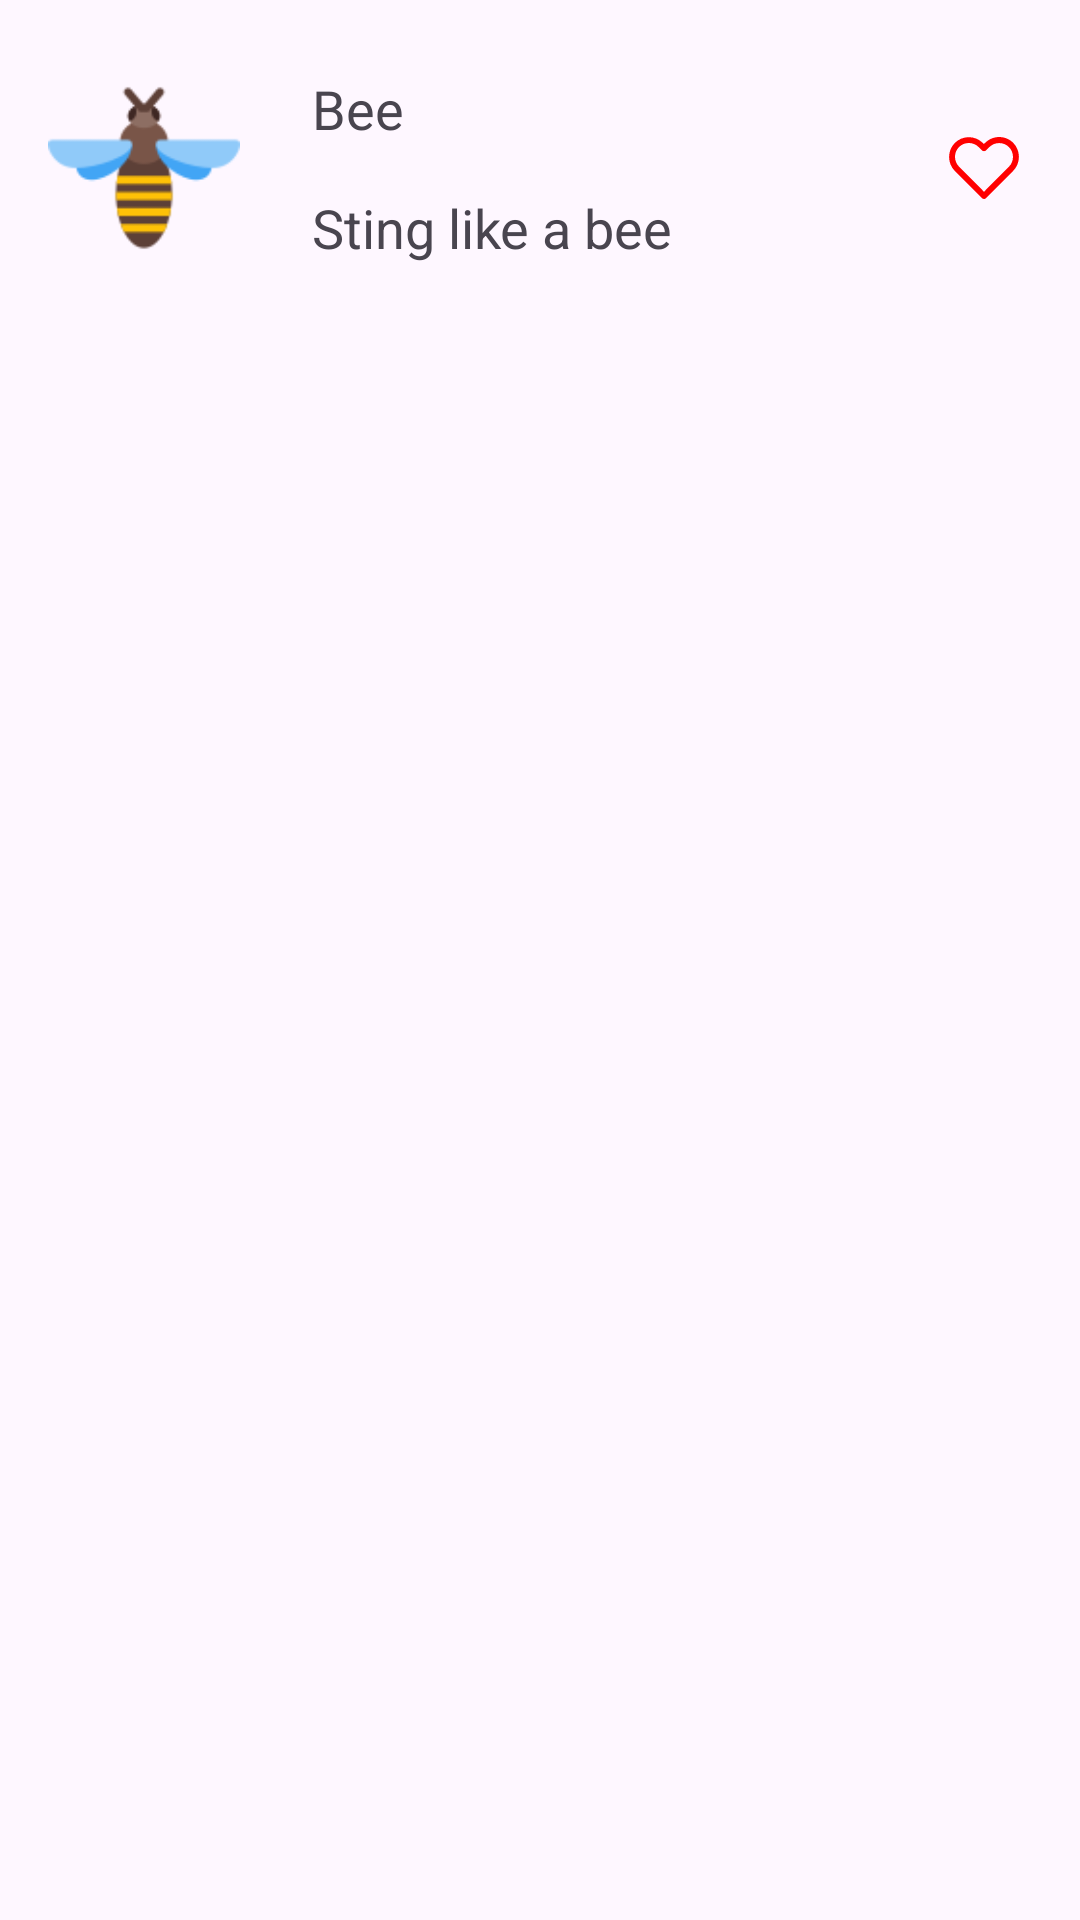

Screen size 1080w x 1920h. Icon name, then its box in pixels as [x1, y1, x2, y2]:
blank heart: [949, 137, 1019, 199]
